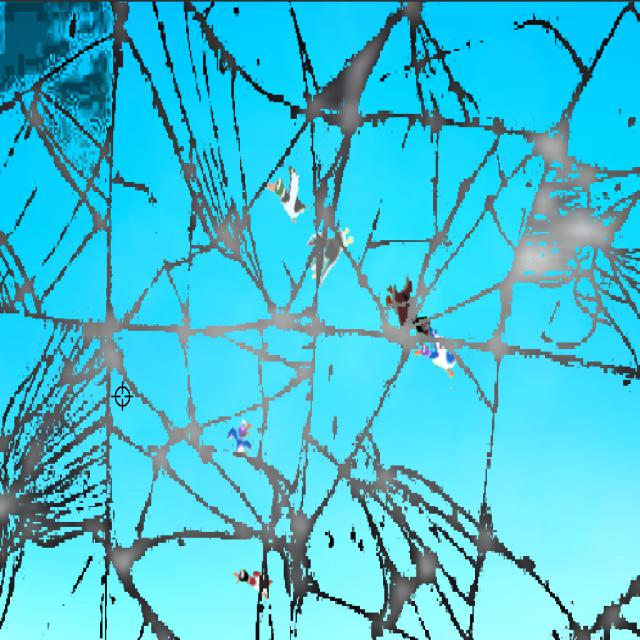duck: (381, 276, 433, 335), (264, 168, 309, 228), (305, 232, 354, 284), (413, 336, 464, 379), (230, 556, 274, 597)
falling_duck: (227, 419, 255, 460)
